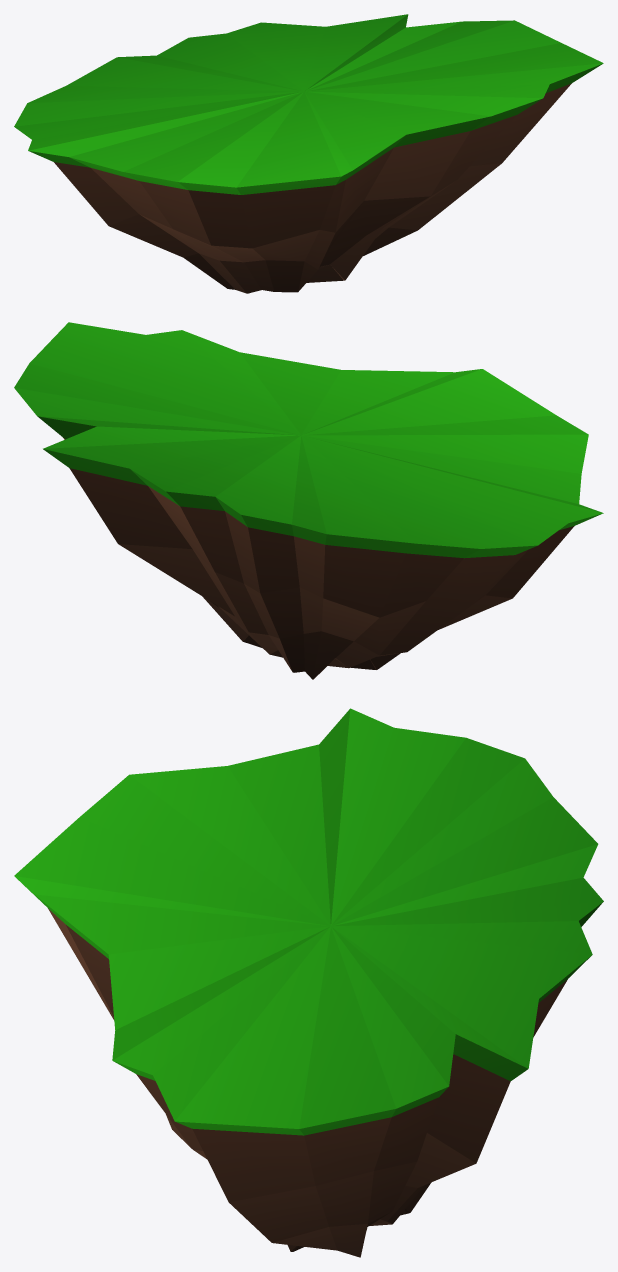
3 renders of one model, top to bottom at view 1: azimuth 30°, elevation 25°; view 2: azimuth 150°, elevation 25°; view 3: azimuth 270°, elevation 25°, orthographic. The views are drawn at different scales.
Visible parts, largest first — view 1: Vert.001, Vert.002; view 2: Vert.001, Vert.002; view 3: Vert.001, Vert.002.
Part boxes in pixels (bbox=[...]): Vert.001: bbox=[14, 14, 603, 194]; Vert.002: bbox=[54, 83, 571, 293]; Vert.001: bbox=[14, 322, 603, 558]; Vert.002: bbox=[63, 438, 574, 679]; Vert.001: bbox=[14, 708, 603, 1135]; Vert.002: bbox=[48, 908, 567, 1257].
Bounding box in the file's own units: 5.89 × 2.11 × 3.56.
Materials: 2 (2 with a texture image).
